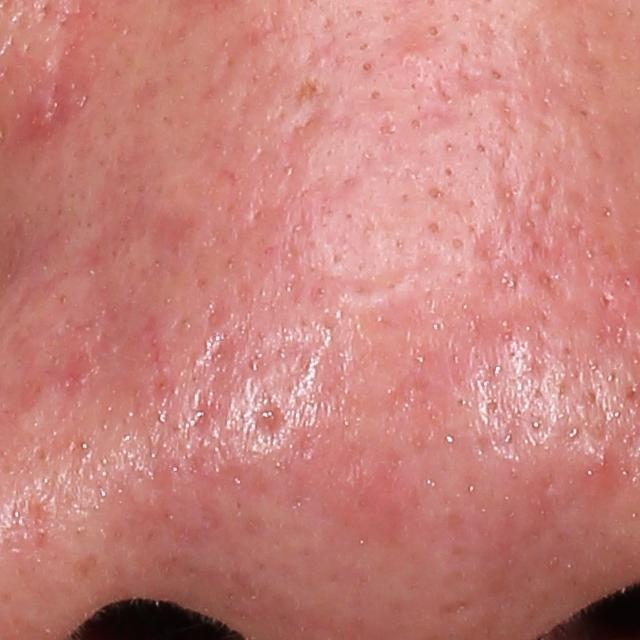atrophic_scar: (487, 148, 519, 221), (253, 393, 294, 446)
comedo: (367, 87, 386, 105), (405, 115, 422, 132), (427, 186, 445, 202), (425, 22, 441, 39), (358, 60, 375, 76), (450, 234, 467, 250), (425, 220, 441, 235), (442, 165, 456, 180), (380, 12, 392, 26), (475, 142, 486, 155), (449, 12, 461, 23)
papule: (23, 85, 65, 140)
